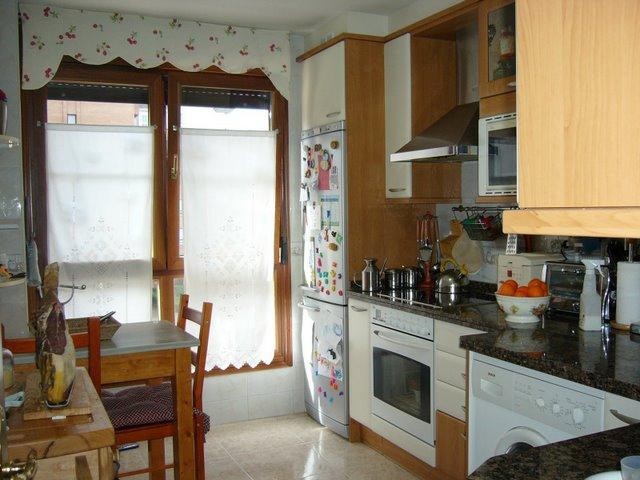Electrodomestico: (298, 135, 350, 432), (369, 307, 437, 460), (469, 352, 601, 430)
Ventana: (171, 75, 283, 363), (36, 85, 170, 316)
